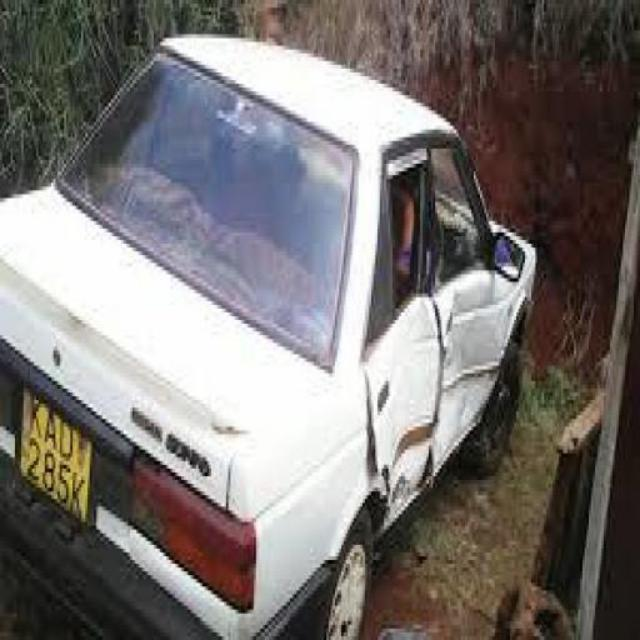dent: (365, 136, 528, 516)
